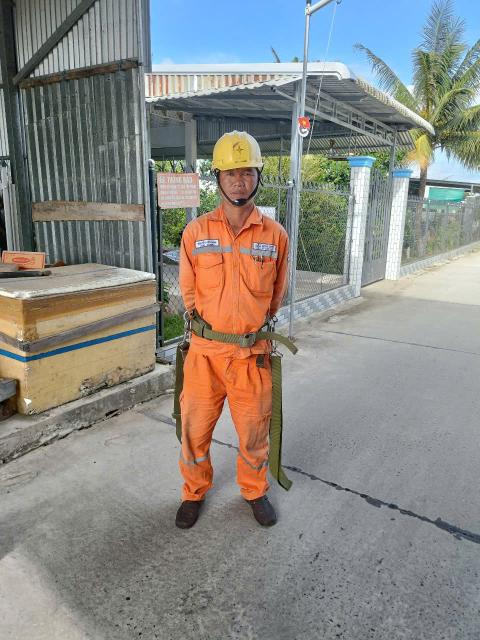harness: (181, 301, 296, 357)
helmet: (210, 121, 267, 175)
shoes: (161, 481, 215, 530), (242, 481, 284, 536)
